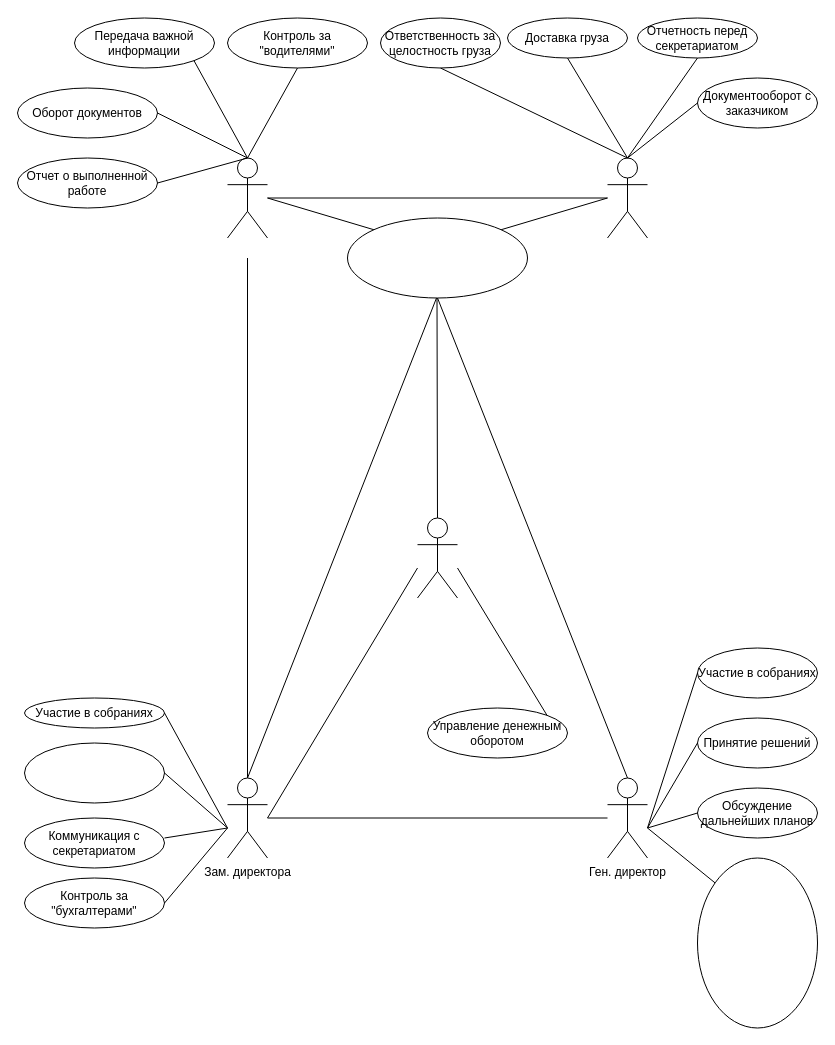
Some shapes in this 835 by 1045 pixel diagram are drawn without their labels. The centre of each missing label's shape, as x and y in pixels:
"Регистрация" (проход через турникет с помощью индивидуальной карточки): point 437,257
Бухгалтеры: point 437,557
Водители: point 627,197
Замена (в случае отсутствия ген. директора): point 94,772
Просмотри статистики (выполнение работы: день, неделя, месяц и т.д.: point 757,942
Секретариат: point 247,197
